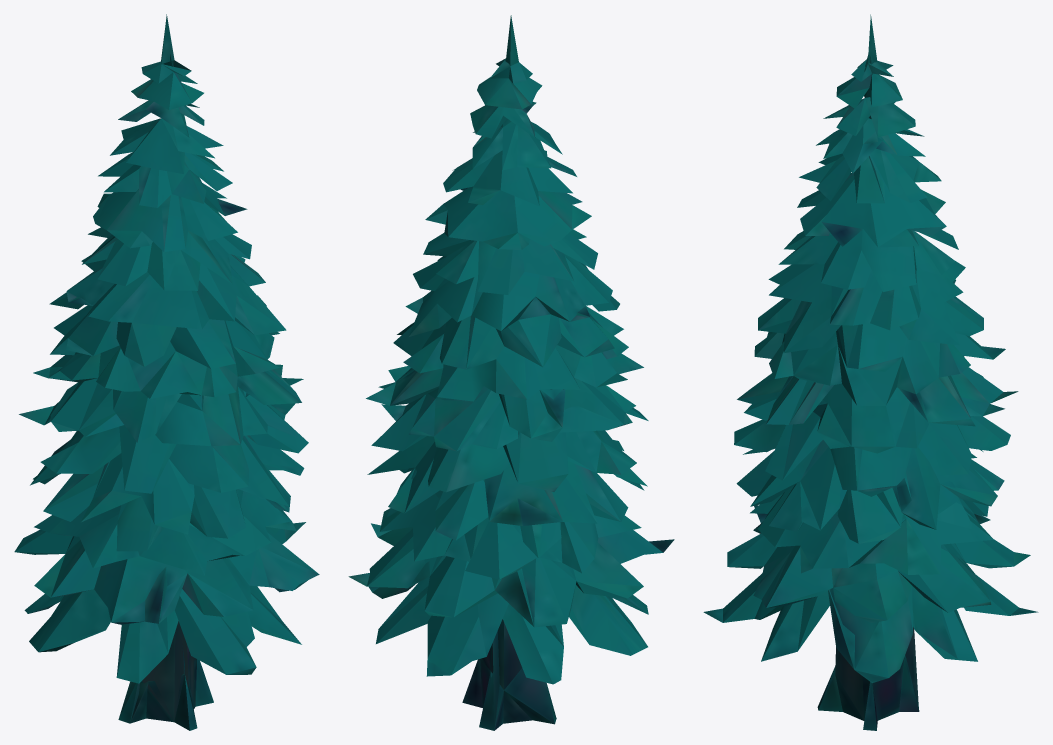
Rendered from pine_1.glb.
The picture shows the model from 3 angles, left to right: view 1: azimuth 30°, elevation 25°; view 2: azimuth 150°, elevation 25°; view 3: azimuth 270°, elevation 25°; orthographic projection.
Bounding box in the file's own units: 0.7974 × 1.9 × 0.8316.
1 material, 1 textured.
